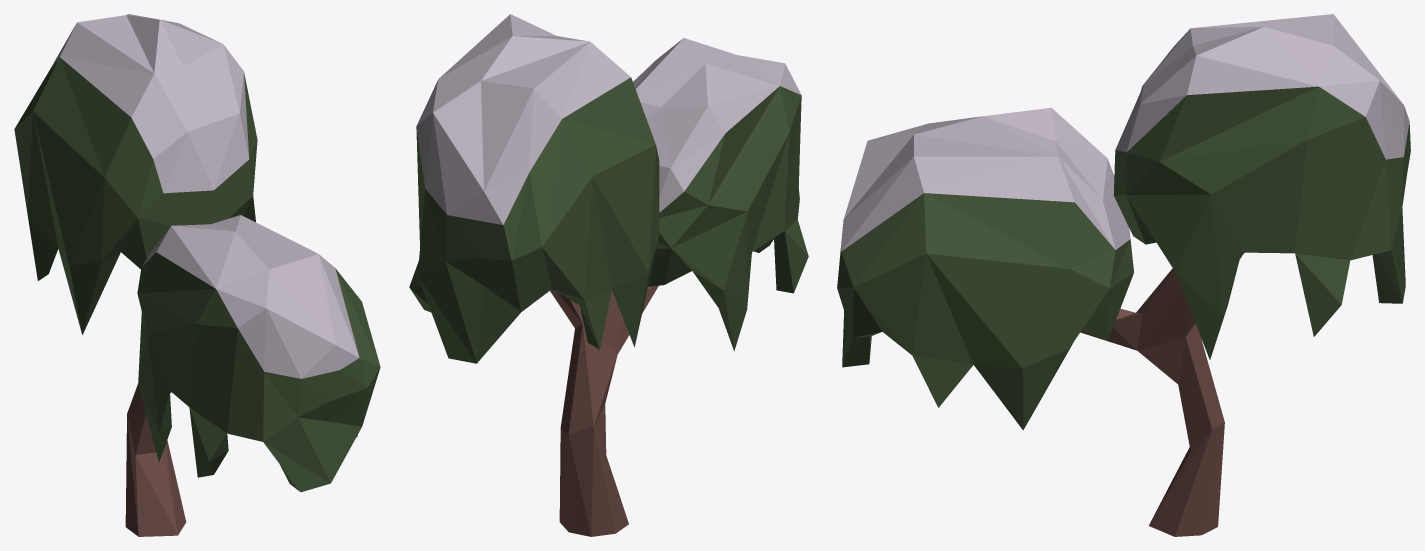
File: Willow_Snow_5.lod2.glb
3 views of the same model, side by side, from view 1: azimuth 30°, elevation 25°; view 2: azimuth 150°, elevation 25°; view 3: azimuth 270°, elevation 25° (orthographic). The views are drawn at different scales.
Visible parts, largest first — view 1: Willow_Snow_5; view 2: Willow_Snow_5; view 3: Willow_Snow_5.
Boxes of the visible parts, bbox=[...] form: Willow_Snow_5: bbox=[14, 14, 380, 536]; Willow_Snow_5: bbox=[409, 14, 808, 536]; Willow_Snow_5: bbox=[837, 14, 1410, 536].
Bounding box in the file's own units: 0.9784 × 2.46 × 2.47.
